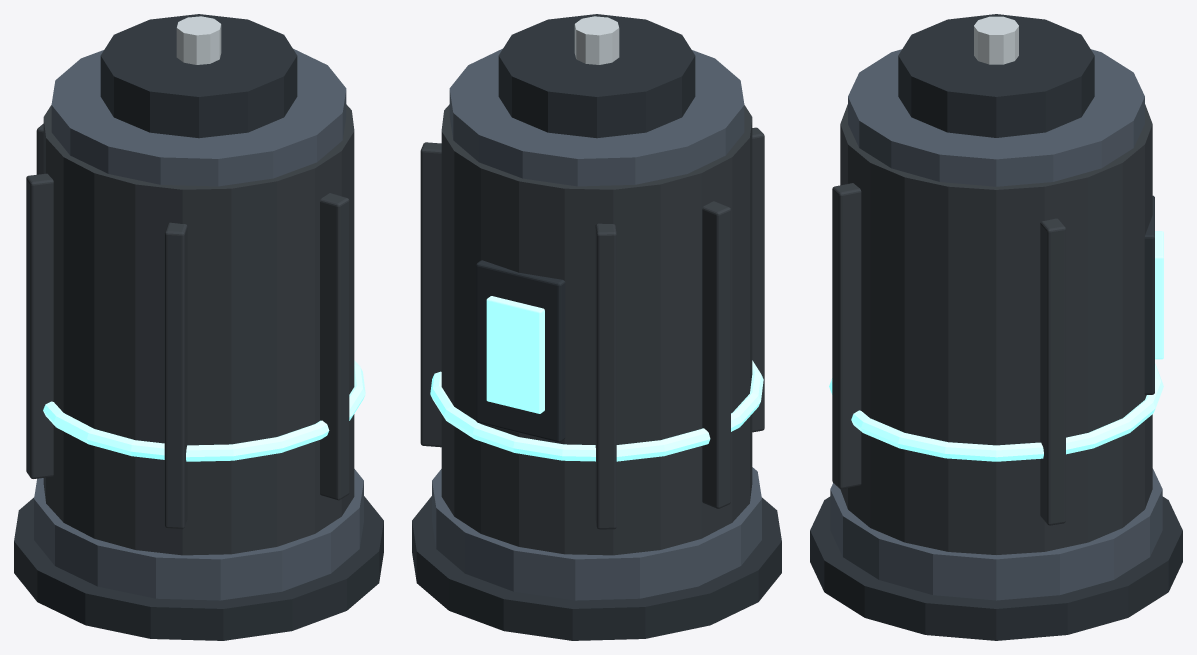
Rendered from prop_cell.glb.
3 renders of one model, left to right at view 1: azimuth 30°, elevation 25°; view 2: azimuth 150°, elevation 25°; view 3: azimuth 270°, elevation 25°, orthographic.
Visible parts, largest first — view 1: prop_cell; view 2: prop_cell; view 3: prop_cell.
Part boxes in pixels (bbox=[...]): prop_cell: bbox=[14, 14, 383, 640]; prop_cell: bbox=[412, 14, 781, 640]; prop_cell: bbox=[810, 14, 1182, 640].
Bounding box in the file's own units: 0.296 × 0.474 × 0.296.
